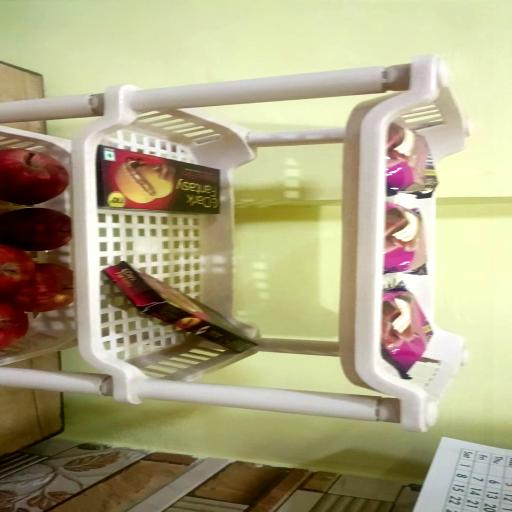Apple: (0, 149, 69, 206), (0, 207, 72, 251), (9, 264, 73, 313), (0, 244, 35, 295), (0, 301, 28, 349)
Choco Fills: (104, 261, 256, 353), (96, 145, 220, 215)
Choco Pie: (381, 285, 432, 379), (384, 123, 437, 198), (384, 203, 430, 276)
